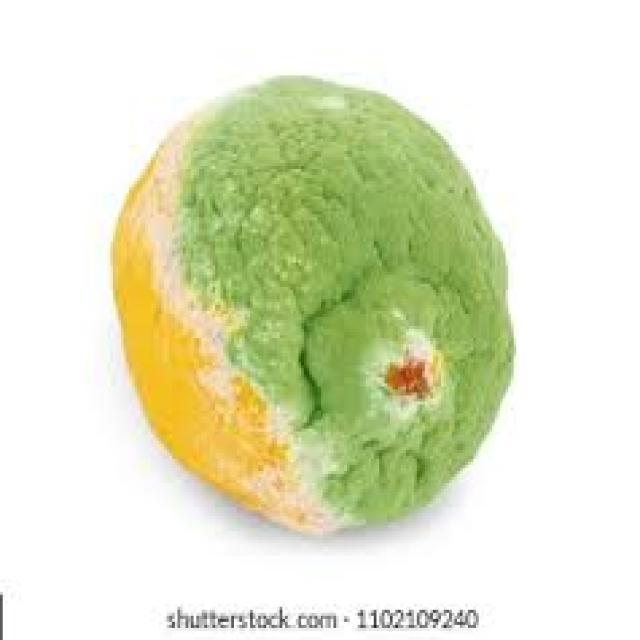Rotten: (110, 69, 515, 536)
